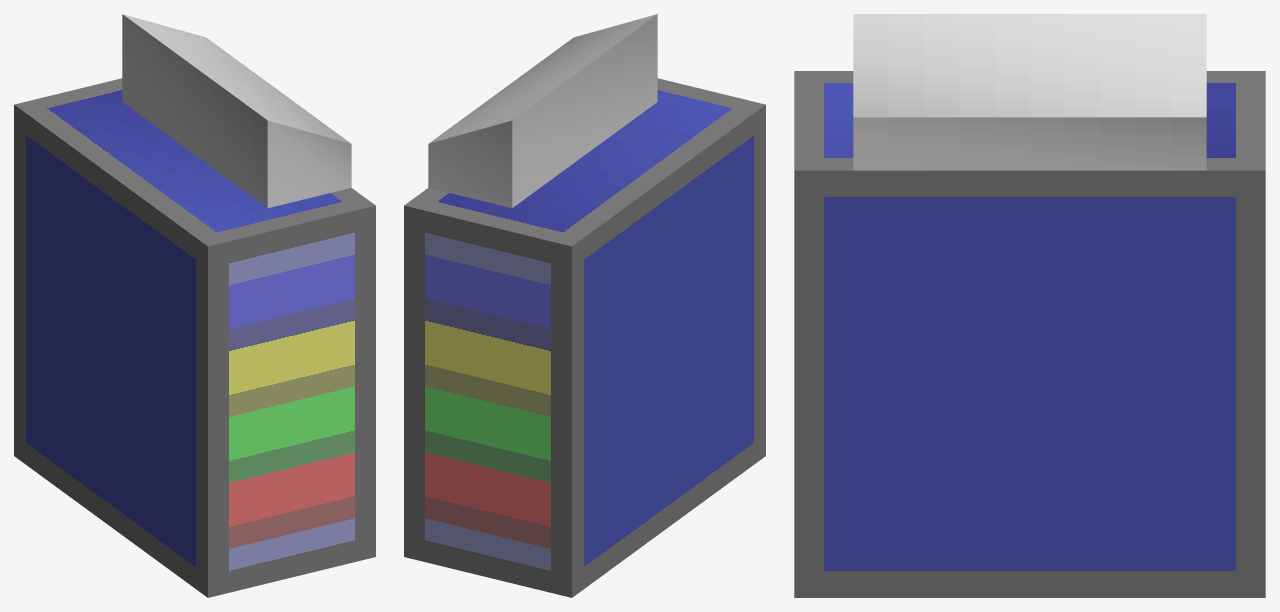
File: MNM_NN_HEAD.obj
3 views of the same model, side by side, from view 1: azimuth 30°, elevation 25°; view 2: azimuth 150°, elevation 25°; view 3: azimuth 270°, elevation 25° (orthographic). The views are drawn at different scales.
Visible parts, largest first — view 1: Cube.007_Cube.009; view 2: Cube.007_Cube.009; view 3: Cube.007_Cube.009.
Boxes of the visible parts, bbox=[...] form: Cube.007_Cube.009: bbox=[14, 14, 375, 597]; Cube.007_Cube.009: bbox=[404, 14, 765, 597]; Cube.007_Cube.009: bbox=[794, 14, 1265, 597].
Bounding box in the file's own units: 4 × 10 × 8.
Materials: 1 (1 with a texture image).
